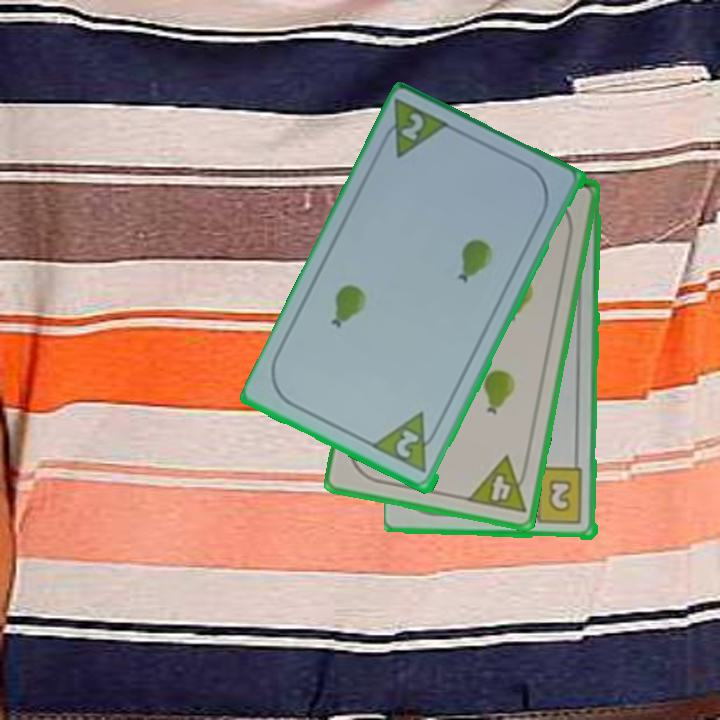2b: (524, 465, 586, 527)
2p: (371, 409, 445, 477), (397, 109, 427, 144)
4p: (464, 453, 533, 517)
